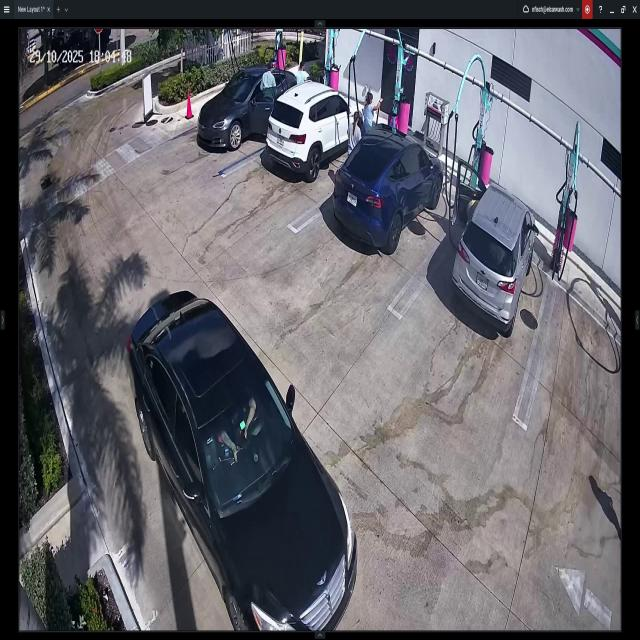Car: (125, 284, 358, 630), (334, 122, 444, 256), (455, 160, 530, 331), (265, 84, 364, 183), (197, 65, 297, 152)
